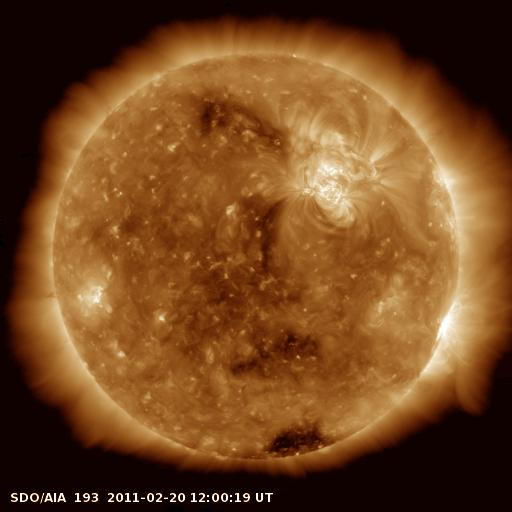coronal_hole: (261, 416, 333, 466)
